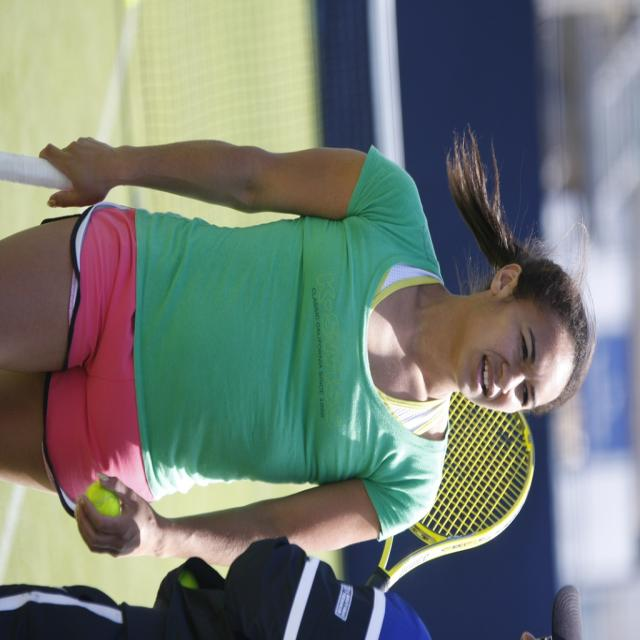Tennis ball: (84, 480, 120, 514)
